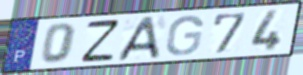0: (39, 21, 77, 65)
4: (249, 8, 284, 53)
7: (210, 10, 249, 55)
A: (115, 14, 162, 63)
G: (164, 14, 206, 57)
Z: (80, 17, 122, 64)
